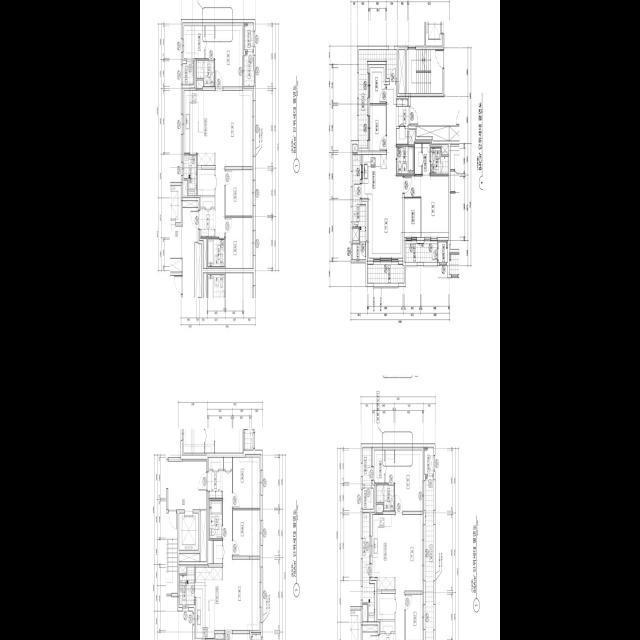background: (140, 0, 500, 640)
space_balconi: (359, 49, 397, 147), (425, 475, 434, 640), (363, 512, 375, 621), (353, 154, 366, 241), (368, 264, 404, 282), (406, 243, 438, 262), (180, 567, 195, 604), (184, 154, 197, 195), (244, 51, 254, 86), (363, 447, 371, 485)
space_bedroom: (404, 175, 448, 236), (395, 450, 422, 511), (215, 25, 242, 86), (233, 457, 260, 508), (226, 217, 252, 268), (233, 510, 260, 555), (226, 169, 252, 215), (406, 594, 422, 640), (370, 104, 386, 150), (370, 67, 386, 103)
space_dressroom: (184, 25, 214, 58), (374, 450, 394, 482), (415, 143, 430, 174)
space_elevator: (179, 513, 199, 549)
space_elevator_hall: (168, 461, 206, 509)
space_front: (207, 470, 223, 498), (199, 208, 215, 236), (396, 98, 408, 126), (379, 633, 396, 640)
space_kitchen: (184, 90, 215, 165), (195, 566, 222, 638), (372, 514, 395, 589), (361, 154, 387, 198)
space_living_room: (222, 470, 260, 630), (369, 84, 403, 257), (215, 90, 252, 236), (395, 514, 422, 640)
space_multipurpose_space: (404, 198, 420, 237)
space_other: (417, 126, 449, 140), (378, 593, 395, 619), (198, 169, 215, 195), (200, 510, 206, 561), (399, 49, 405, 93), (183, 60, 193, 84), (363, 488, 373, 509), (353, 244, 366, 259), (214, 540, 222, 563), (209, 457, 223, 469), (397, 128, 408, 143), (179, 553, 199, 561), (380, 621, 395, 631), (201, 196, 215, 206), (183, 200, 198, 207), (224, 457, 232, 469), (363, 625, 378, 631), (204, 238, 207, 268), (409, 130, 415, 144), (353, 228, 359, 240), (363, 604, 367, 621), (196, 79, 203, 88), (376, 504, 383, 512), (442, 146, 448, 154), (184, 180, 187, 195), (215, 634, 224, 639), (180, 566, 186, 573), (353, 144, 357, 152)
space_outdoor_room: (244, 22, 254, 49), (424, 447, 434, 473), (438, 241, 448, 262)
space_staircase: (407, 49, 442, 92)
space_toilet: (397, 145, 414, 174), (376, 484, 394, 511), (208, 238, 225, 266), (196, 60, 214, 86), (431, 147, 448, 174), (210, 500, 222, 538)
